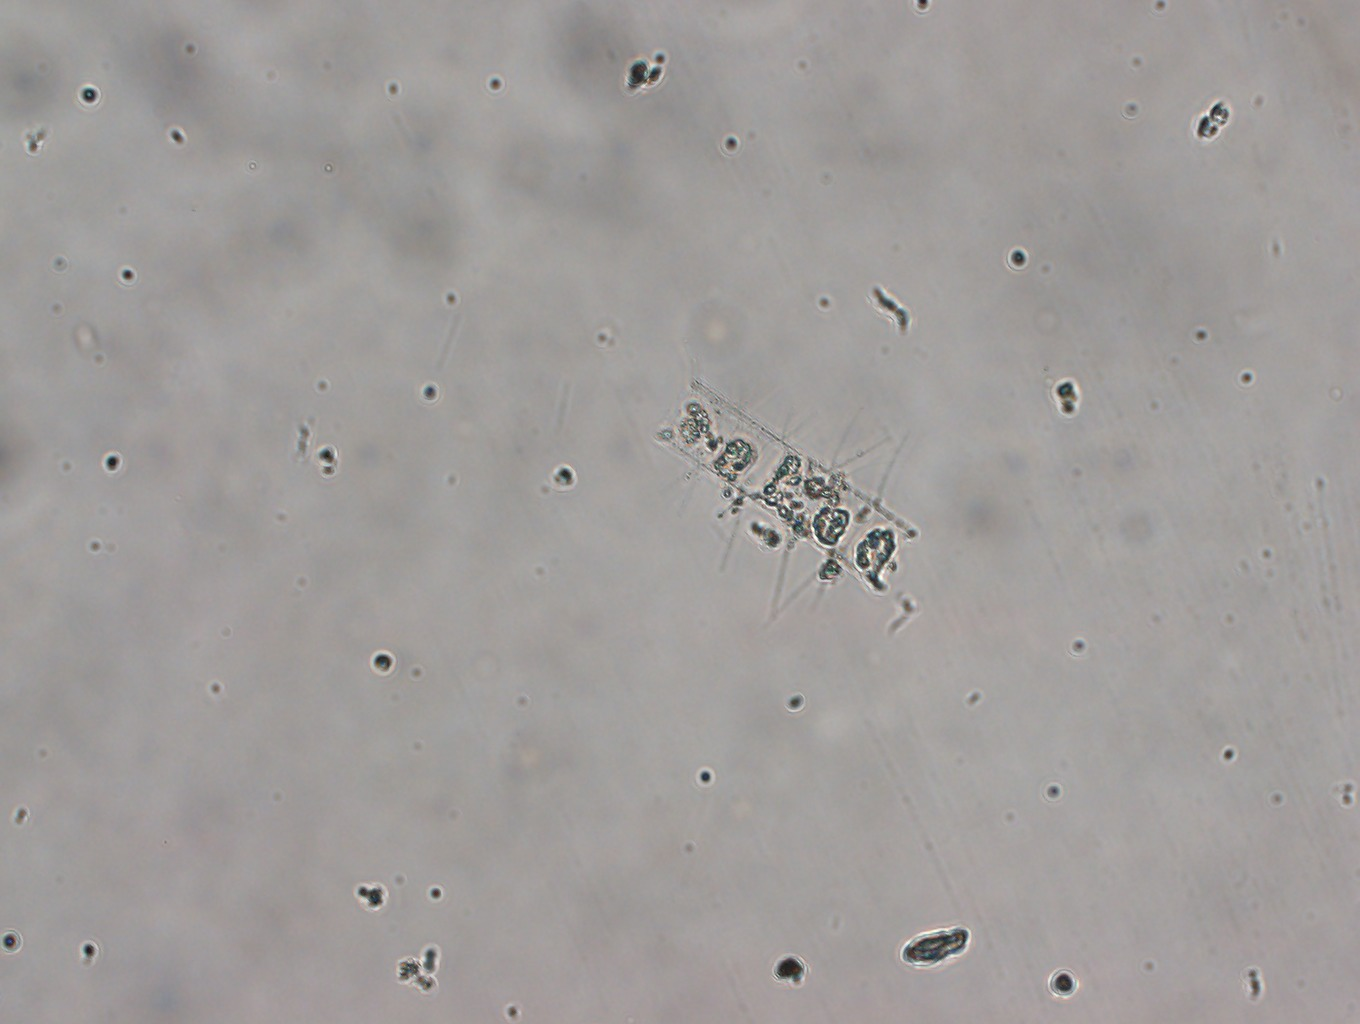chaetoceros: (628, 349, 928, 624)
